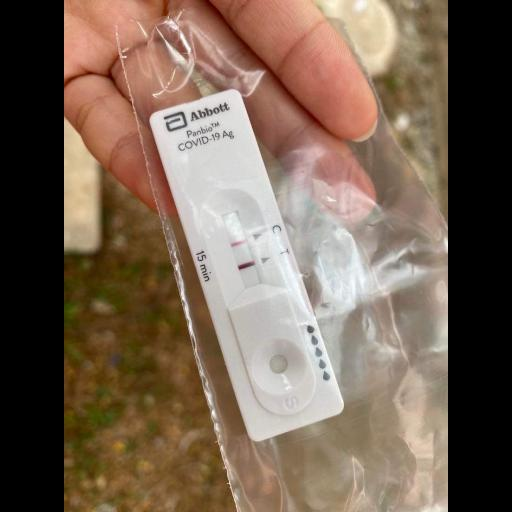Pos: (151, 88, 345, 441)
